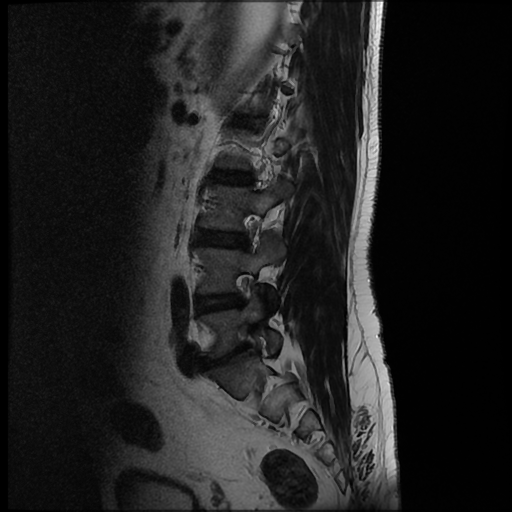RFS1: (235, 204, 268, 262), (231, 268, 268, 319)
